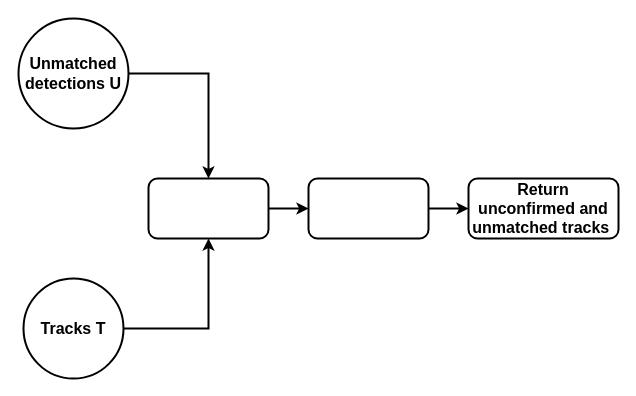
This 636x396 diagram has some shape labels left out. The centre of each missing label's shape, as x and y in pixels:
Hungarian matching: point 368,208
IOU calculation: point 208,208
